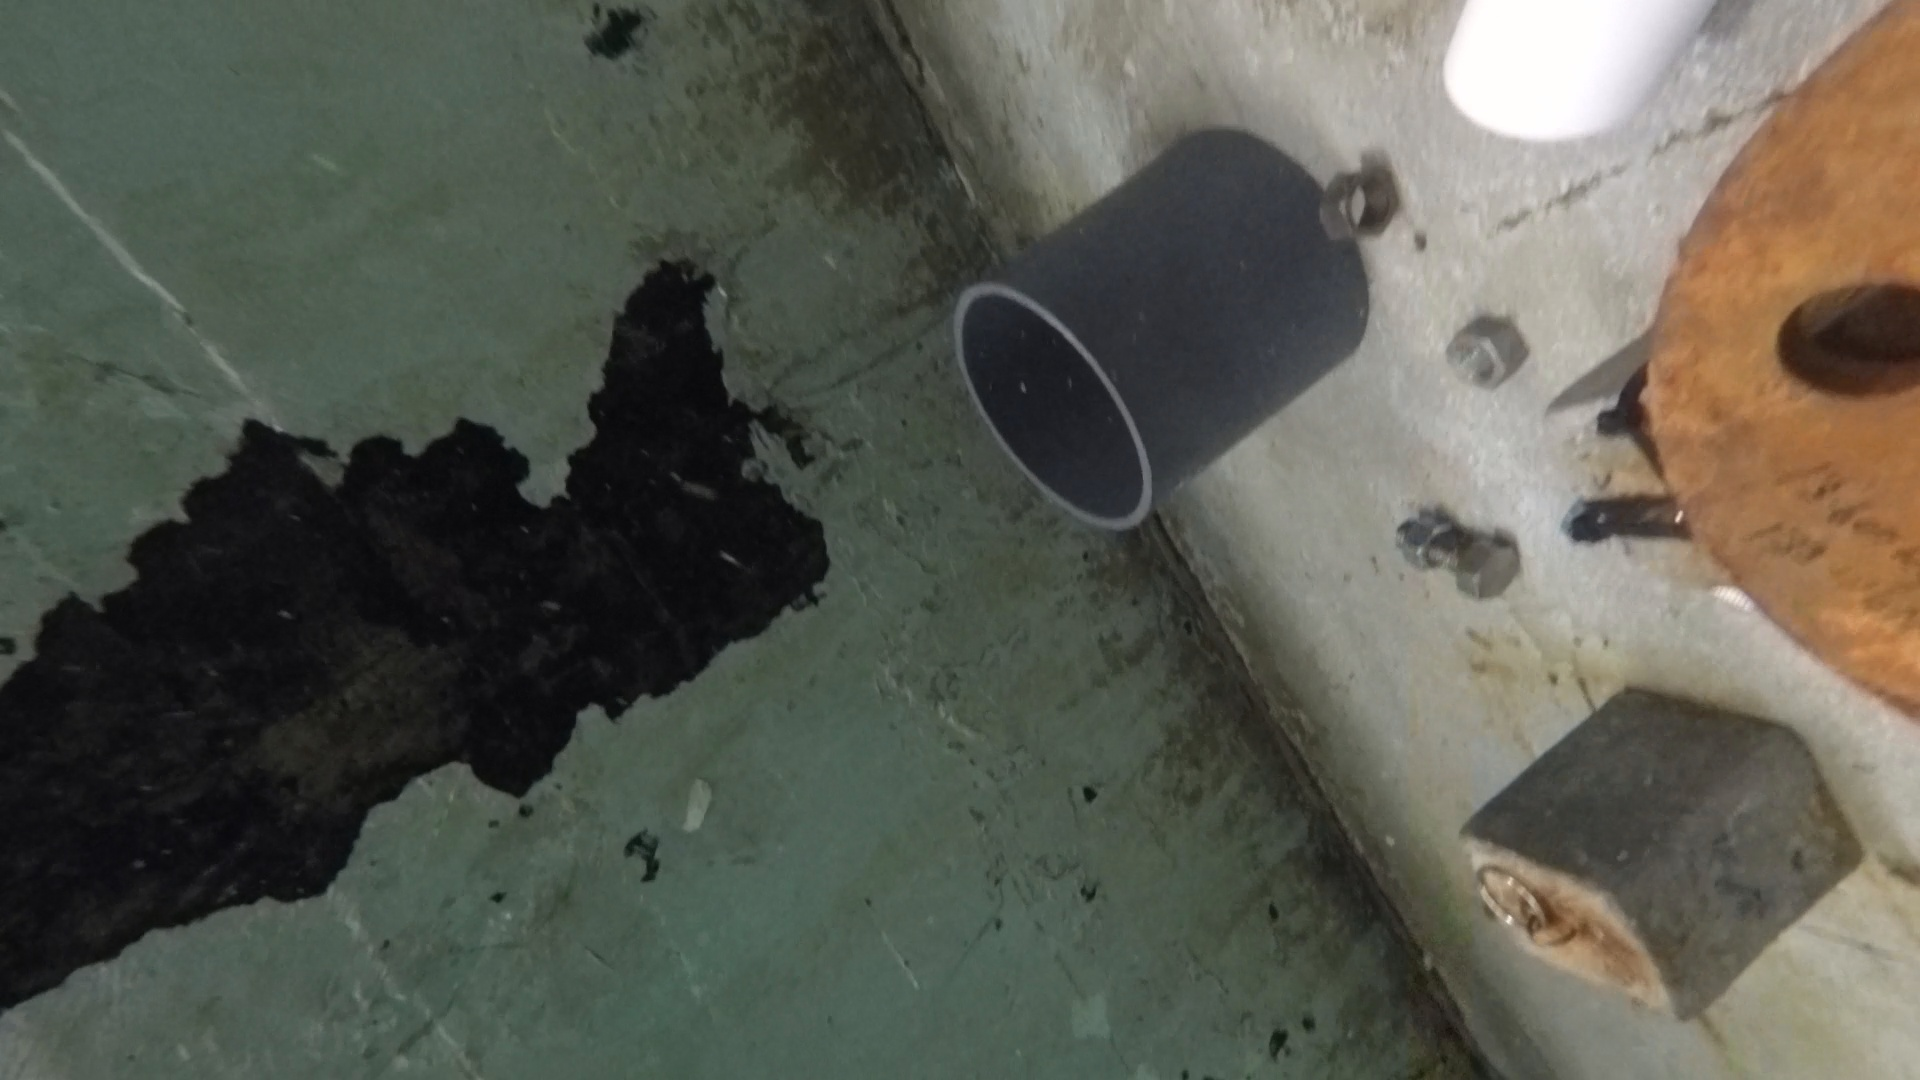bolt: (1395, 516, 1520, 600)
flange: (1643, 1, 1920, 727)
led_block: (1458, 684, 1865, 1023), (1545, 327, 1772, 597)
nut: (1445, 314, 1531, 390), (1321, 162, 1399, 244), (1389, 512, 1460, 572)
pipe: (952, 125, 1371, 533), (1440, 1, 1712, 141)
